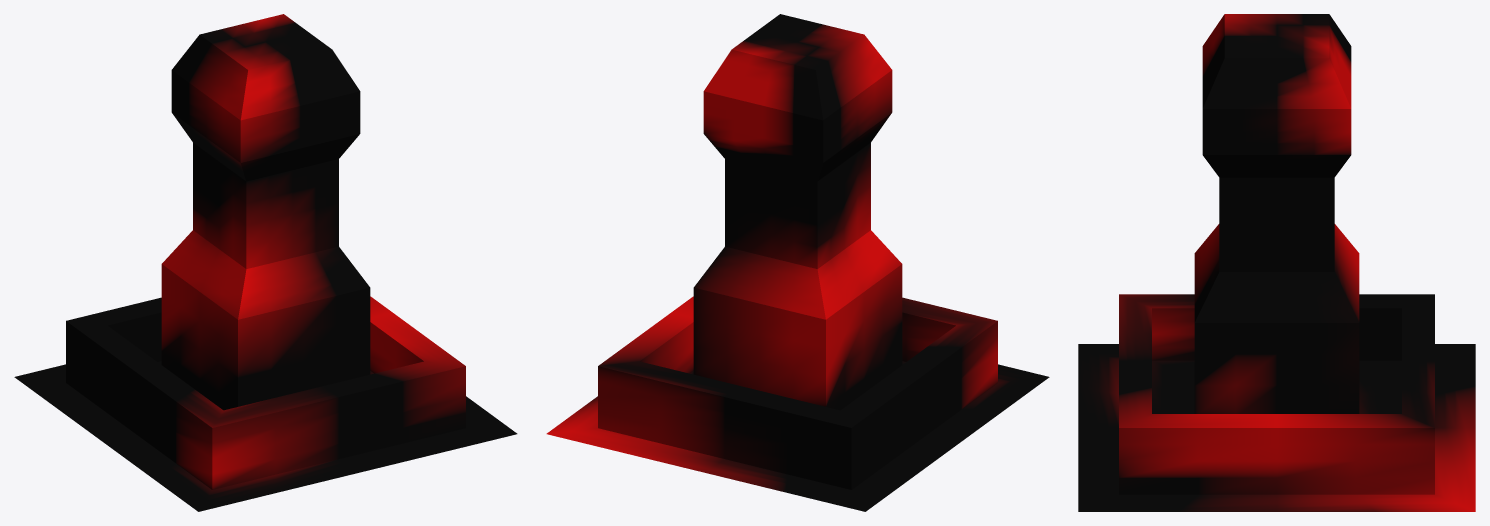
File: metal_stuff.glb
3 views of the same model, side by side, from view 1: azimuth 30°, elevation 25°; view 2: azimuth 150°, elevation 25°; view 3: azimuth 270°, elevation 25° (orthographic). The views are drawn at different scales.
Visible parts, largest first — view 1: Plane.001; view 2: Plane.001; view 3: Plane.001.
Part boxes in pixels (x1=…): Plane.001: x1=14, y1=14, x2=517, y2=511; Plane.001: x1=546, y1=14, x2=1049, y2=511; Plane.001: x1=1078, y1=14, x2=1475, y2=511.
Size of the model in its own units: 2 by 2.18 by 2.
